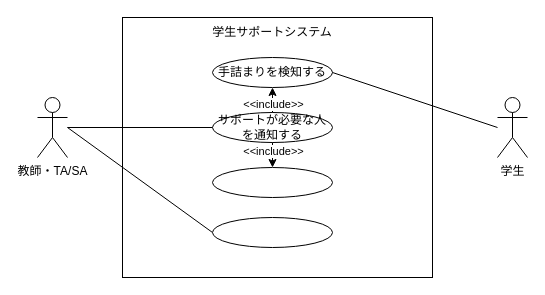
Some shapes in this 545 by 295 pixel diagram are drawn without their labels. The shapes that lost their labels are listed below. From the top down, each one's box as (x1, y1, x2, y2) in pixels, then its label:
(212, 166, 332, 198): 教室を巡回する
(212, 216, 332, 248): 授業支援システムを設定する
